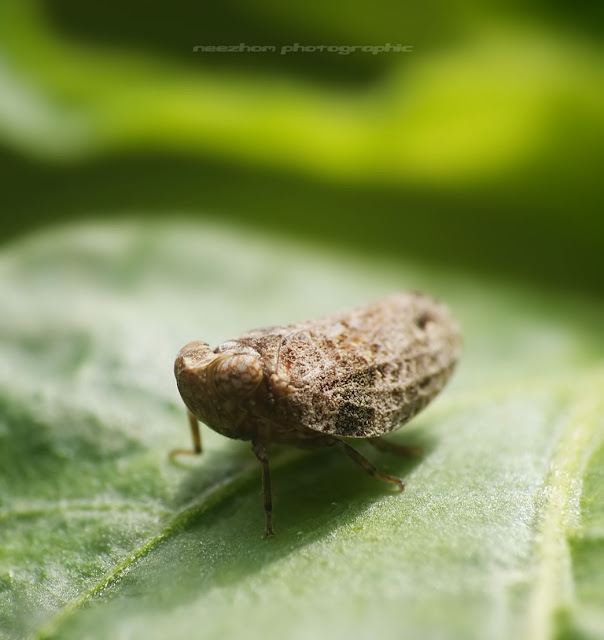Brown_hopper: (170, 290, 468, 536)
